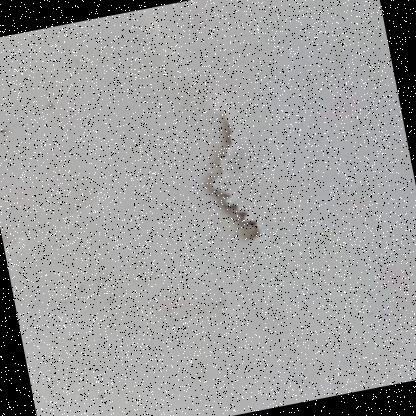Crack: (155, 81, 306, 269)
